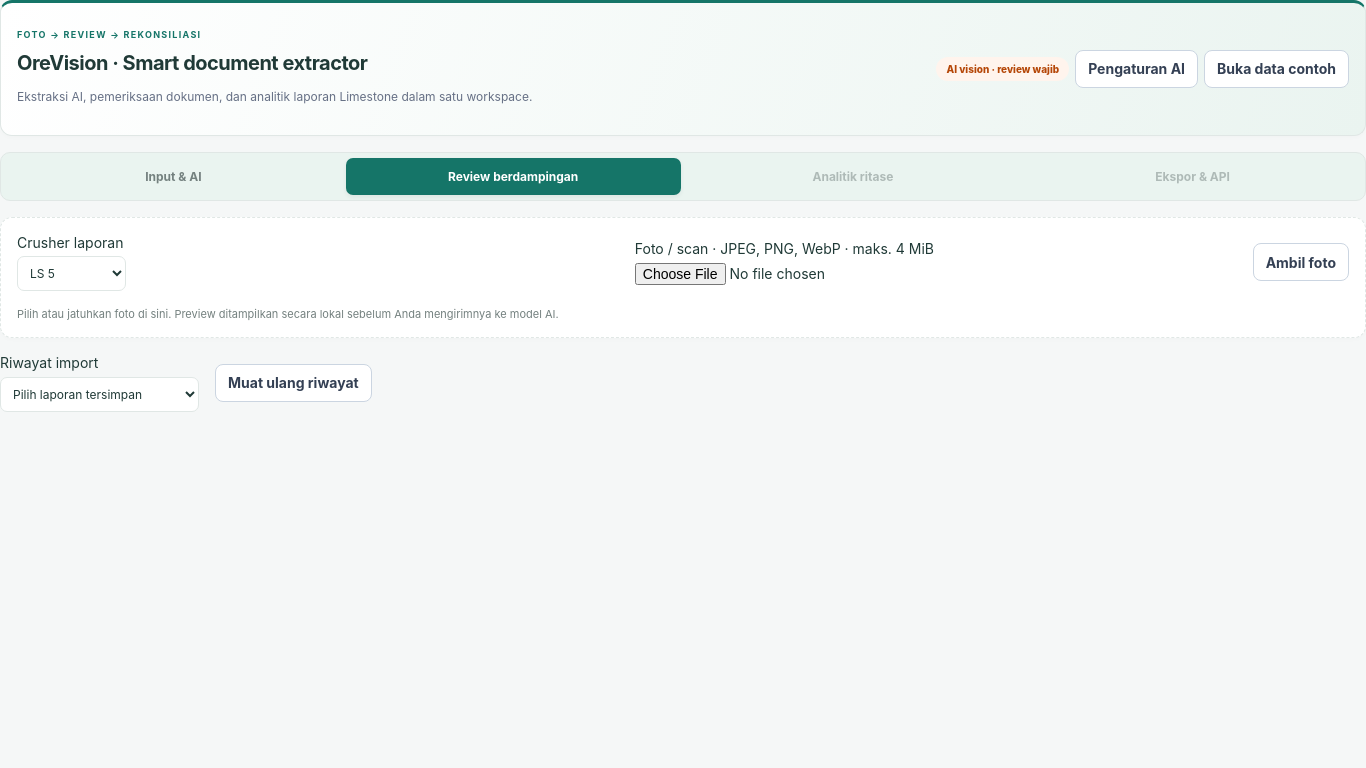
Test case: photo report review UI › shows permanent cleanup only to supervisors and deletes an unconfirmed import
The image size is (1366, 768).
Select "test.jpg · READY · 31/8/2026" in the dropdown named "Riwayat import foto" at (100, 394), box [0, 377, 199, 412]
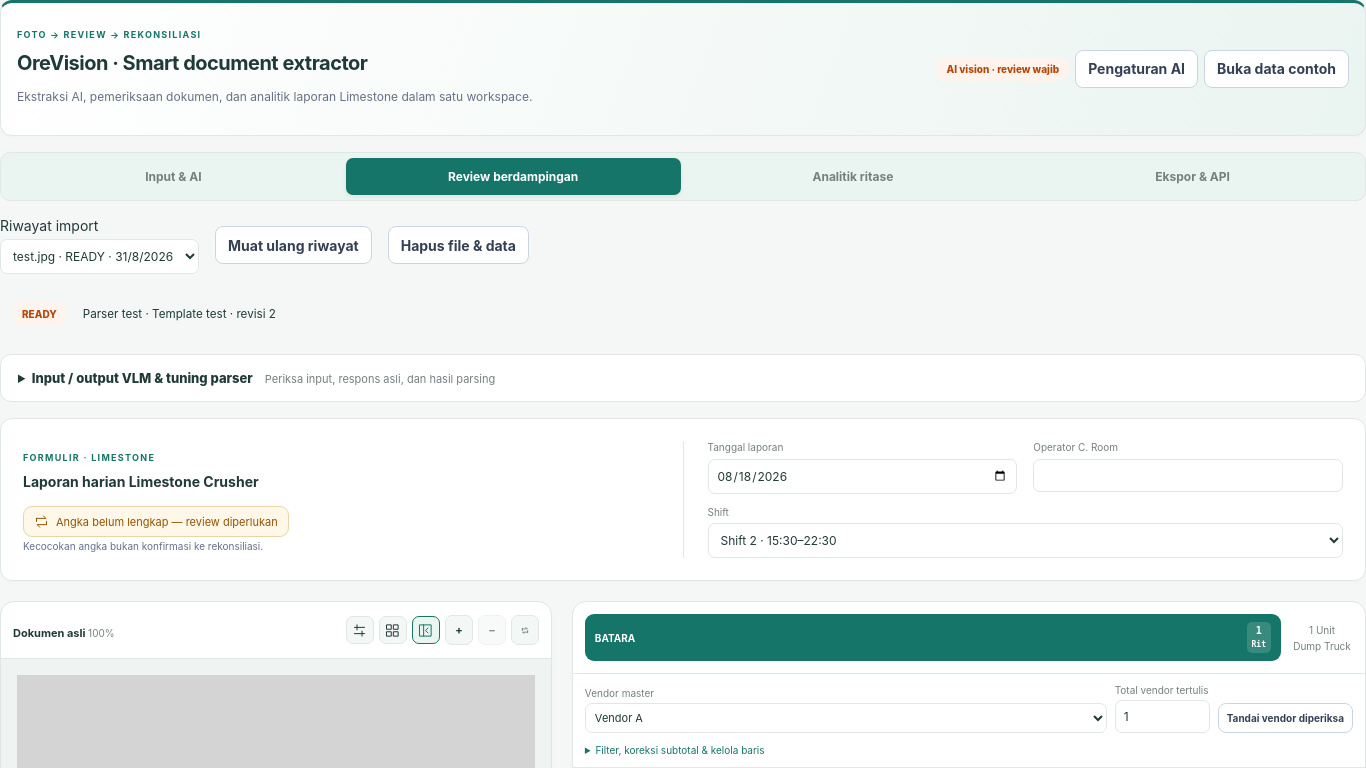
Click the button "Hapus file & data" at (458, 245), box [388, 226, 529, 264]
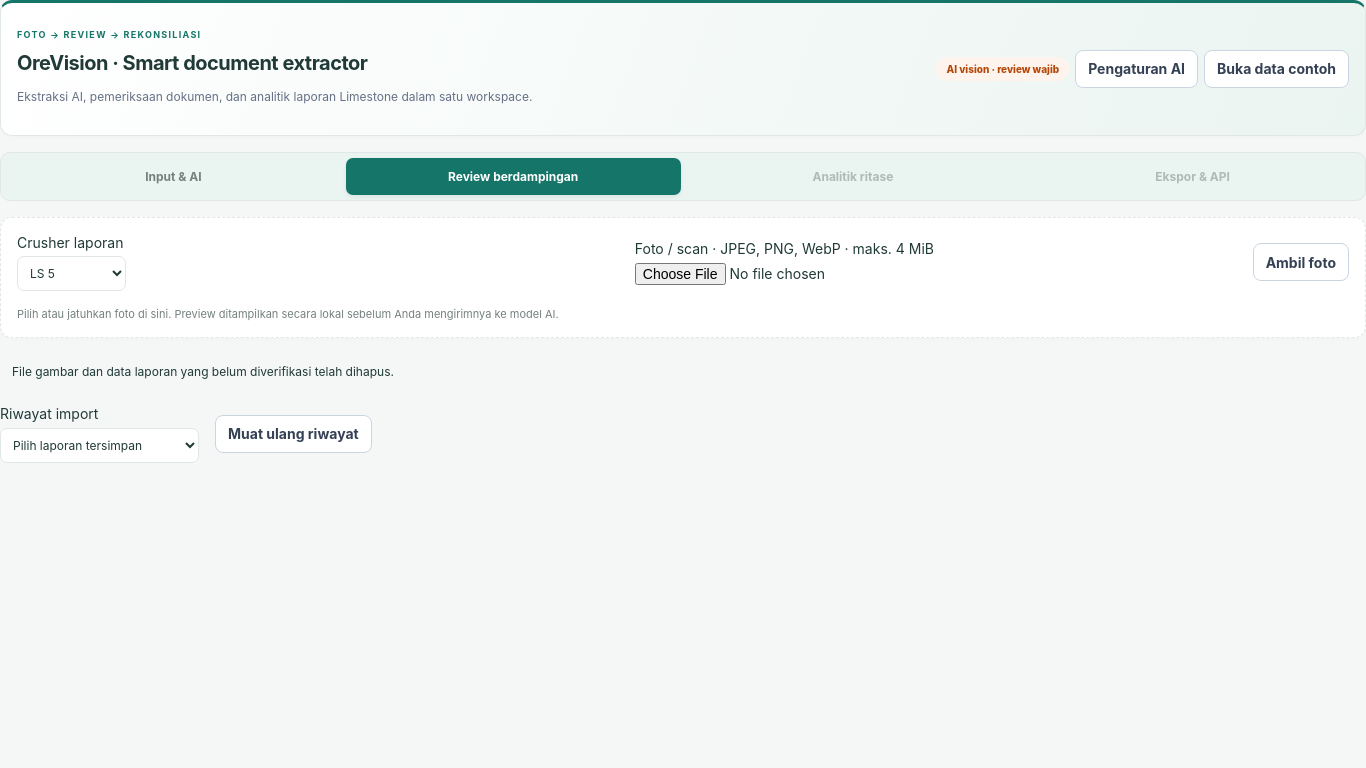
Check: the text "File gambar dan data laporan yang belum diverifikasi telah dihapus." is shown, box [12, 364, 394, 379]
